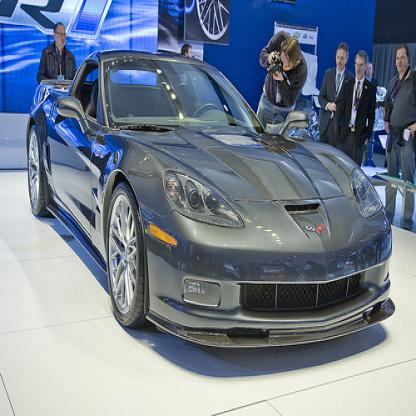Vehicle: (24, 44, 398, 358)
